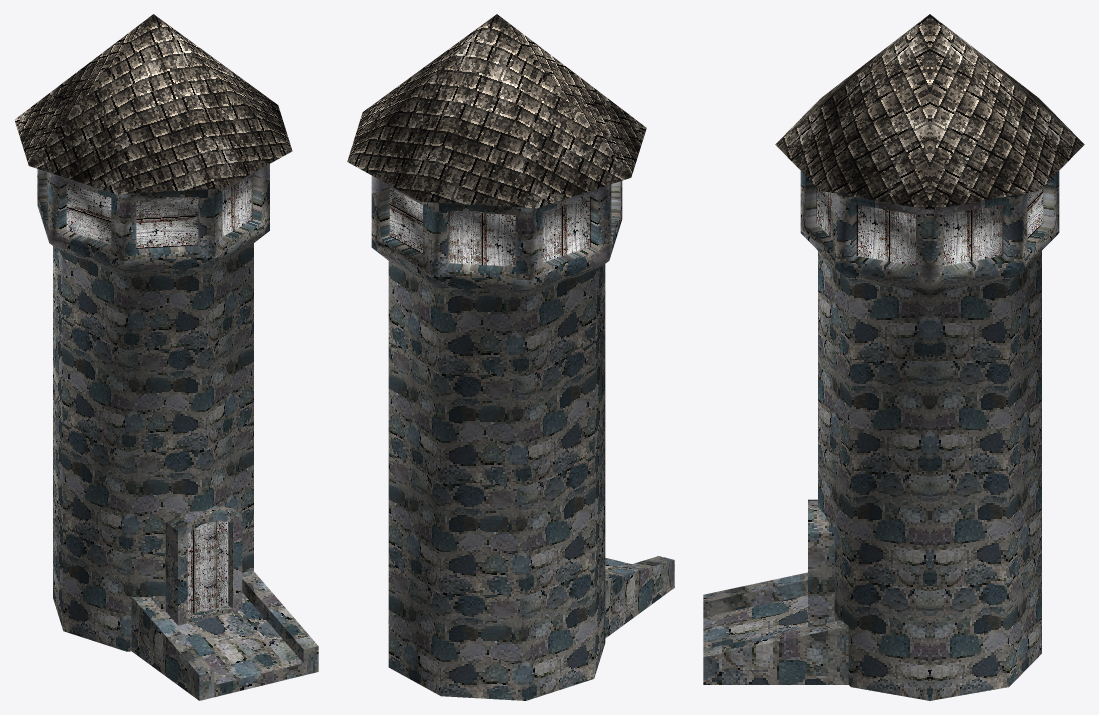
The model's file is Watchtower.fbx.
3 views of the same model, side by side, from view 1: azimuth 30°, elevation 25°; view 2: azimuth 150°, elevation 25°; view 3: azimuth 270°, elevation 25° (orthographic). The views are drawn at different scales.
Parts seen in each view (by area): view 1: Watchtower; view 2: Watchtower; view 3: Watchtower.
Part boxes in pixels (x1=…): Watchtower: x1=14, y1=14, x2=318, y2=700; Watchtower: x1=347, y1=14, x2=674, y2=700; Watchtower: x1=703, y1=14, x2=1084, y2=700.
Bounding box in the file's own units: 410 × 936 × 506.
